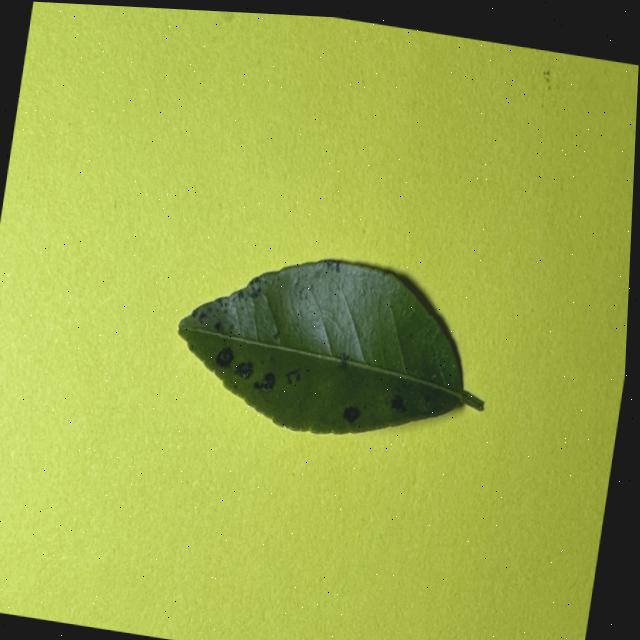sooty_mold: (177, 259, 482, 433)
